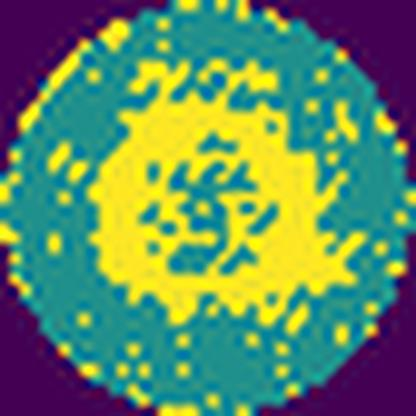Donut: (82, 58, 363, 332)
